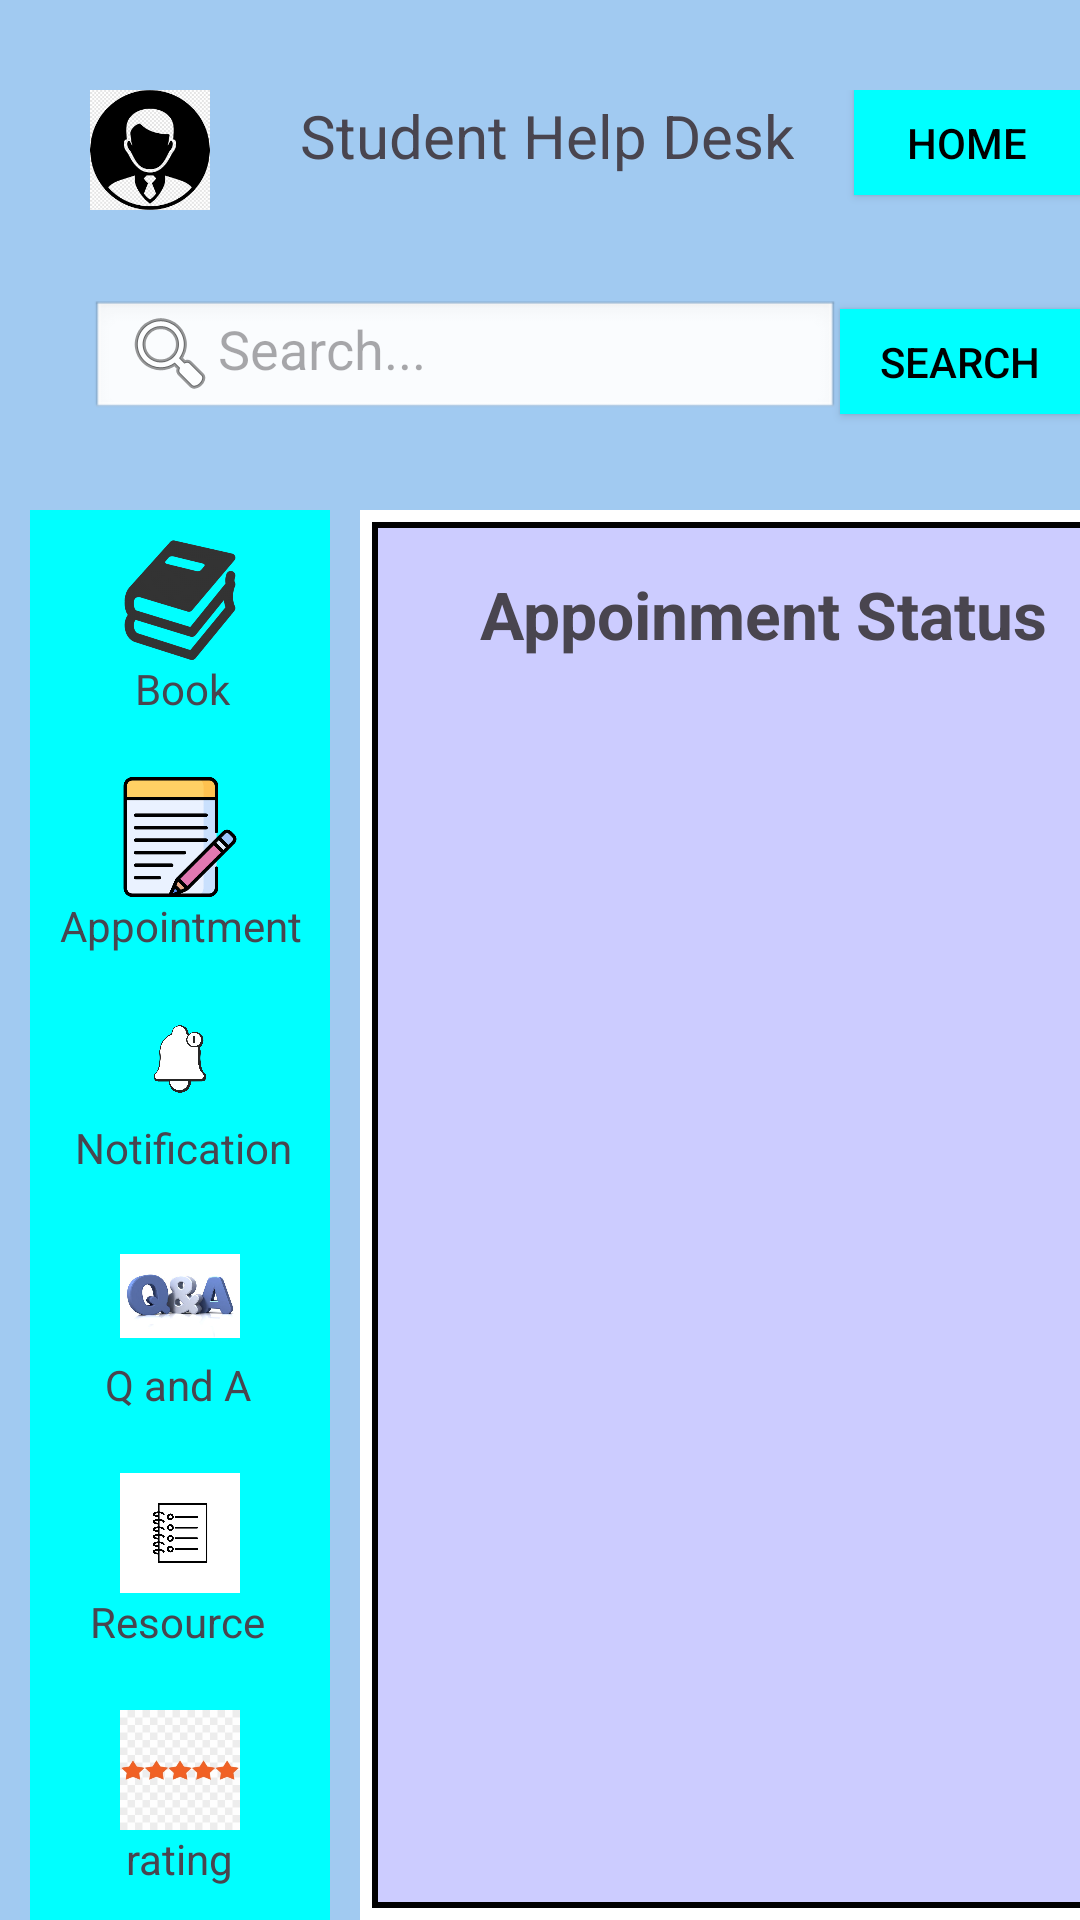

Where icons sit on this 1080×1920 app screen, as (x1, y1, x2, y2):
profile: (90, 90, 210, 210)
